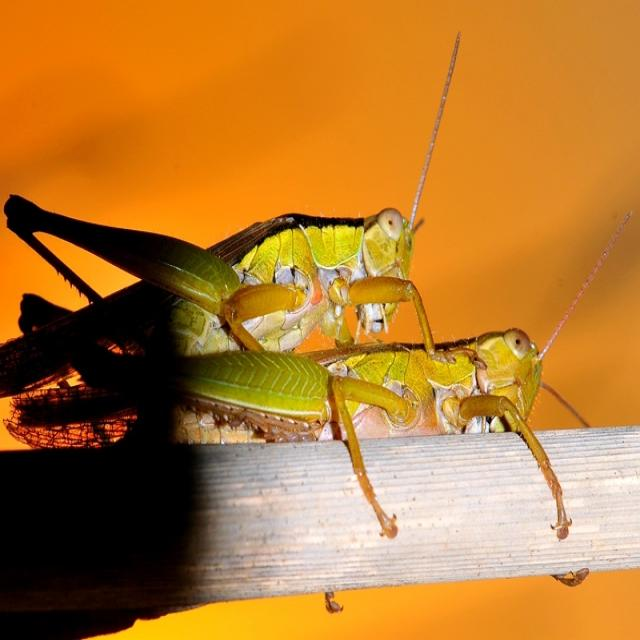ZhaMeng: (4, 175, 447, 359), (158, 311, 556, 484)
